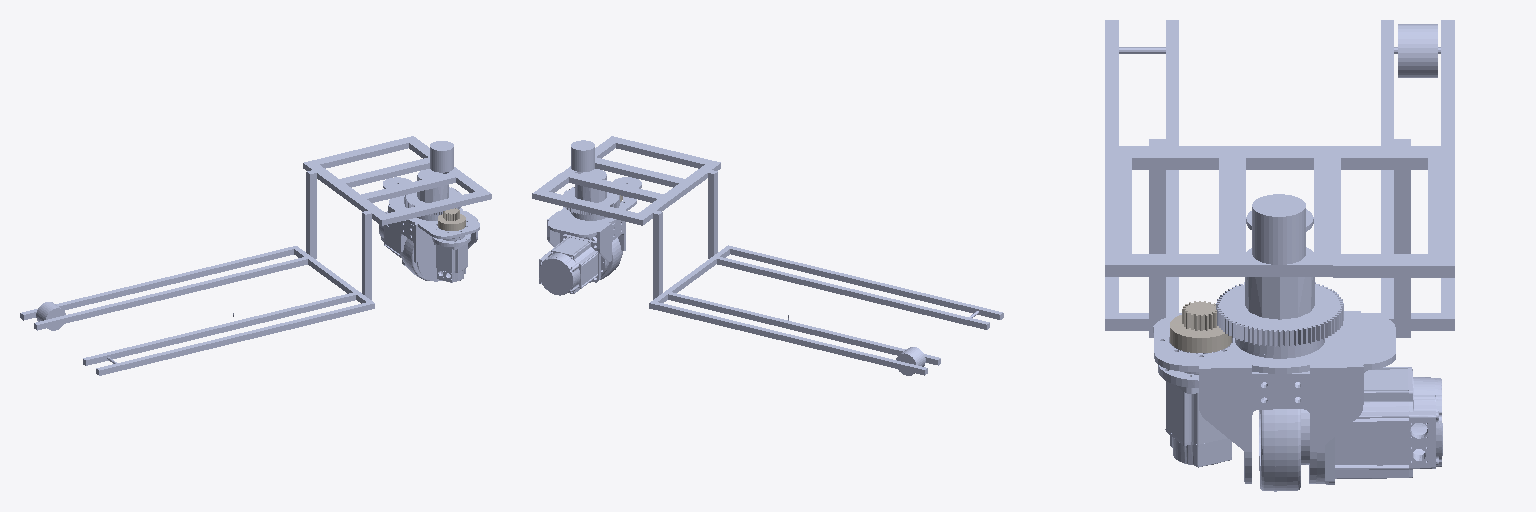
URDF robot description (trial3_fork):
<?xml version="1.0" encoding="utf-8"?>
<!-- This URDF was automatically created by SolidWorks to URDF Exporter! Originally created by [author] ([email redacted]) 
     Commit Version: 1.6.0-4-g7f85cfe  Build Version: 1.6.7995.38578
     For more information, please see http://wiki.ros.org/sw_urdf_exporter -->
<robot
  name="trial3_fork">
  <link
    name="base_footprint">
    <inertial>
      <origin
        xyz="-0.000985951304991628 1.25045556628178E-05 0.0149675563690359"
        rpy="0 0 0" />
      <mass
        value="9.4247779607694E-05" />
      <inertia
        ixx="7.06170779212468E-09"
        ixy="3.86032204181578E-13"
        ixz="4.62068299913868E-10"
        iyy="7.09214051953621E-09"
        iyz="-5.86028817761947E-12"
        izz="7.75664091009642E-11" />
    </inertial>
    <visual>
      <origin
        xyz="0 0 0"
        rpy="0 0 0" />
      <geometry>
        <mesh
          filename="package://trial3_fork/meshes/base_footprint.STL" />
      </geometry>
      <material
        name="">
        <color
          rgba="0.792156862745098 0.819607843137255 0.933333333333333 1" />
      </material>
    </visual>
    <collision>
      <origin
        xyz="0 0 0"
        rpy="0 0 0" />
      <geometry>
        <mesh
          filename="package://trial3_fork/meshes/base_footprint.STL" />
      </geometry>
    </collision>
  </link>
  <link
    name="base_link">
    <inertial>
      <origin
        xyz="-0.231627960985343 -0.000639413850167303 -0.118566538327031"
        rpy="0 0 0" />
      <mass
        value="5.37682193052439" />
      <inertia
        ixx="0.236486794589605"
        ixy="-0.000892001504283899"
        ixz="-0.224856062792506"
        iyy="0.949604781026181"
        iyz="-0.00024475635422504"
        izz="1.00366495457815" />
    </inertial>
    <visual>
      <origin
        xyz="0 0 0"
        rpy="0 0 0" />
      <geometry>
        <mesh
          filename="package://trial3_fork/meshes/base_link.STL" />
      </geometry>
      <material
        name="">
        <color
          rgba="0.792156862745098 0.819607843137255 0.933333333333333 1" />
      </material>
    </visual>
    <collision>
      <origin
        xyz="0 0 0"
        rpy="0 0 0" />
      <geometry>
        <mesh
          filename="package://trial3_fork/meshes/base_link.STL" />
      </geometry>
    </collision>
  </link>
  <joint
    name="base_joint"
    type="fixed">
    <origin
      xyz="0.614561427802267 -0.00538365047577682 0.357410000753851"
      rpy="0 0 0" />
    <parent
      link="base_footprint" />
    <child
      link="base_link" />
    <axis
      xyz="0 0 0" />
  </joint>
  <link
    name="l_roller_link">
    <inertial>
      <origin
        xyz="1.38777878078145E-16 -0.0300000000000001 0"
        rpy="0 0 0" />
      <mass
        value="0.296880505764236" />
      <inertia
        ixx="0.000209671857195991"
        ixy="-9.61174503141587E-20"
        ixz="1.77524184482933E-33"
        iyy="0.000241215410933441"
        iyz="-1.18430182019675E-19"
        izz="0.000209671857195991" />
    </inertial>
    <visual>
      <origin
        xyz="0 0 0"
        rpy="0 0 0" />
      <geometry>
        <mesh
          filename="package://trial3_fork/meshes/l_roller_link.STL" />
      </geometry>
      <material
        name="">
        <color
          rgba="0.792156862745098 0.819607843137255 0.933333333333333 1" />
      </material>
    </visual>
    <collision>
      <origin
        xyz="0 0 0"
        rpy="0 0 0" />
      <geometry>
        <mesh
          filename="package://trial3_fork/meshes/l_roller_link.STL" />
      </geometry>
    </collision>
  </link>
  <joint
    name="l_roller_joint"
    type="continuous">
    <origin
      xyz="-1.19571238794372 0.234017472862179 -0.285000000000007"
      rpy="0 0 0" />
    <parent
      link="base_link" />
    <child
      link="l_roller_link" />
    <axis
      xyz="0 1 0" />
  </joint>
  <link
    name="r_roller_link">
    <inertial>
      <origin
        xyz="-2.94209101525666E-15 0.440000000000008 -6.66133814775094E-15"
        rpy="0 0 0" />
      <mass
        value="0.296880505764236" />
      <inertia
        ixx="0.000209671857195991"
        ixy="-9.61174503141586E-20"
        ixz="1.77524184482933E-33"
        iyy="0.000241215410933441"
        iyz="-1.18430182019675E-19"
        izz="0.000209671857195991" />
    </inertial>
    <visual>
      <origin
        xyz="0 0 0"
        rpy="0 0 0" />
      <geometry>
        <mesh
          filename="package://trial3_fork/meshes/r_roller_link.STL" />
      </geometry>
      <material
        name="">
        <color
          rgba="0.792156862745098 0.819607843137255 0.933333333333333 1" />
      </material>
    </visual>
    <collision>
      <origin
        xyz="0 0 0"
        rpy="0 0 0" />
      <geometry>
        <mesh
          filename="package://trial3_fork/meshes/r_roller_link.STL" />
      </geometry>
    </collision>
  </link>
  <joint
    name="r_roller_joint"
    type="continuous">
    <origin
      xyz="-1.19571238794372 -0.235982527137829 -0.285"
      rpy="0 0 0" />
    <parent
      link="base_link" />
    <child
      link="r_roller_link" />
    <axis
      xyz="0 1 0" />
  </joint>
  <link
    name="motor_link">
    <inertial>
      <origin
        xyz="0.00137075768700923 0.0182497031557034 -0.109924586978009"
        rpy="0 0 0" />
      <mass
        value="4.4486500446745" />
      <inertia
        ixx="0.0151435856083514"
        ixy="0.000734537080591917"
        ixz="-8.6446468379195E-05"
        iyy="0.0167852179723807"
        iyz="0.000204858818386351"
        izz="0.0202726085499277" />
    </inertial>
    <visual>
      <origin
        xyz="0 0 0"
        rpy="0 0 0" />
      <geometry>
        <mesh
          filename="package://trial3_fork/meshes/motor_link.STL" />
      </geometry>
      <material
        name="">
        <color
          rgba="0.792156862745098 0.819607843137255 0.933333333333333 1" />
      </material>
    </visual>
    <collision>
      <origin
        xyz="0 0 0"
        rpy="0 0 0" />
      <geometry>
        <mesh
          filename="package://trial3_fork/meshes/motor_link.STL" />
      </geometry>
    </collision>
  </link>
  <joint
    name="motor_joint"
    type="revolute">
    <origin
      xyz="0.139891552049961 -0.000982527137839195 -0.104"
      rpy="0 0 0" />
    <parent
      link="base_link" />
    <child
      link="motor_link" />
    <axis
      xyz="0 0 1" />
    <limit
      lower="0"
      upper="0"
      effort="0"
      velocity="0" />
  </joint>
  <link
    name="wheel_link">
    <inertial>
      <origin
        xyz="-0.000368121493260487 0.0211638160747093 1.67088674007942E-08"
        rpy="0 0 0" />
      <mass
        value="1.21637660223564" />
      <inertia
        ixx="0.00444506841754728"
        ixy="-6.57596508444286E-05"
        ixz="1.36218641438688E-06"
        iyy="0.00822459882497592"
        iyz="2.3784843091165E-08"
        izz="0.00444225537797155" />
    </inertial>
    <visual>
      <origin
        xyz="0 0 0"
        rpy="0 0 0" />
      <geometry>
        <mesh
          filename="package://trial3_fork/meshes/wheel_link.STL" />
      </geometry>
      <material
        name="">
        <color
          rgba="0.792156862745098 0.819607843137255 0.933333333333333 1" />
      </material>
    </visual>
    <collision>
      <origin
        xyz="0 0 0"
        rpy="0 0 0" />
      <geometry>
        <mesh
          filename="package://trial3_fork/meshes/wheel_link.STL" />
      </geometry>
    </collision>
  </link>
  <joint
    name="wheel_joint"
    type="continuous">
    <origin
      xyz="0.000373906313857253 -0.0214967484532613 -0.169999999999722"
      rpy="0 0 0" />
    <parent
      link="motor_link" />
    <child
      link="wheel_link" />
    <axis
      xyz="-0.0173909913544219 0.999848765273884 0" />
  </joint>
  <link
    name="steer_link">
    <inertial>
      <origin
        xyz="-4.55857573911089E-13 8.43991543320044E-13 -0.0298662179307794"
        rpy="0 0 0" />
      <mass
        value="0.14815238319712" />
      <inertia
        ixx="9.39329267252087E-05"
        ixy="-2.47402517850109E-20"
        ixz="1.44956139155634E-19"
        iyy="9.39329267252086E-05"
        iyz="2.30477378699055E-21"
        izz="0.000161623781245691" />
    </inertial>
    <visual>
      <origin
        xyz="0 0 0"
        rpy="0 0 0" />
      <geometry>
        <mesh
          filename="package://trial3_fork/meshes/steer_link.STL" />
      </geometry>
      <material
        name="">
        <color
          rgba="0.776470588235294 0.756862745098039 0.737254901960784 1" />
      </material>
    </visual>
    <collision>
      <origin
        xyz="0 0 0"
        rpy="0 0 0" />
      <geometry>
        <mesh
          filename="package://trial3_fork/meshes/steer_link.STL" />
      </geometry>
    </collision>
  </link>
  <joint
    name="steer_joint"
    type="floating">
    <origin
      xyz="0.0020434 -0.11748 0.02"
      rpy="0 0 0" />
    <parent
      link="motor_link" />
    <child
      link="steer_link" />
    <axis
      xyz="0 0 -1" />
  </joint>
  <link
    name="laser_link">
    <inertial>
      <origin
        xyz="0 -1.40998324127395E-14 -0.0394999999999999"
        rpy="0 0 0" />
      <mass
        value="0.39709731141375" />
      <inertia
        ixx="0.000365362617943268"
        ixy="6.5253044679986E-52"
        ixz="-1.21245706409418E-36"
        iyy="0.000365362617943268"
        iyz="6.46109837352296E-20"
        izz="0.000317677849131001" />
    </inertial>
    <visual>
      <origin
        xyz="0 0 0"
        rpy="0 0 0" />
      <geometry>
        <mesh
          filename="package://trial3_fork/meshes/laser_link.STL" />
      </geometry>
      <material
        name="">
        <color
          rgba="0.792156862745098 0.819607843137255 0.933333333333333 1" />
      </material>
    </visual>
    <collision>
      <origin
        xyz="0 0 0"
        rpy="0 0 0" />
      <geometry>
        <mesh
          filename="package://trial3_fork/meshes/laser_link.STL" />
      </geometry>
    </collision>
  </link>
  <joint
    name="laser_joint"
    type="fixed">
    <origin
      xyz="0.17236 -0.0022934 0.099"
      rpy="0 0 0" />
    <parent
      link="base_link" />
    <child
      link="laser_link" />
    <axis
      xyz="0 0 0" />
  </joint>
</robot>

--- Facts derived from the render (not from the file) ---
Views: 3 orthographic renders of the robot side by side, from view 1: azimuth 30°, elevation 25°; view 2: azimuth 150°, elevation 25°; view 3: azimuth 270°, elevation 25°.
Model trial3_fork with 8 links and 7 joints (1 revolute, 3 continuous, 2 fixed, 1 floating), rooted at base_footprint, posed every joint at zero.
Links seen in each view (by area): view 1: base_link, motor_link, laser_link; view 2: base_link, motor_link, laser_link; view 3: base_link, motor_link, laser_link, wheel_link, steer_link, l_roller_link.
Link boxes in pixels (x1,y1,x2,y2): base_link: (20,136,491,375); motor_link: (379,195,479,282); laser_link: (430,141,453,172); base_link: (532,136,1003,375); motor_link: (539,196,636,295); laser_link: (571,140,594,171); base_link: (1105,20,1454,346); motor_link: (1153,311,1442,484); laser_link: (1252,194,1305,264); wheel_link: (1259,382,1300,491); steer_link: (1170,301,1231,352); l_roller_link: (1398,24,1437,77).
Size in the robot's own frame: 1.52 by 0.52 by 0.4738 metres.
8 mesh visuals loaded from 8 distinct referenced files (8 binary STL).